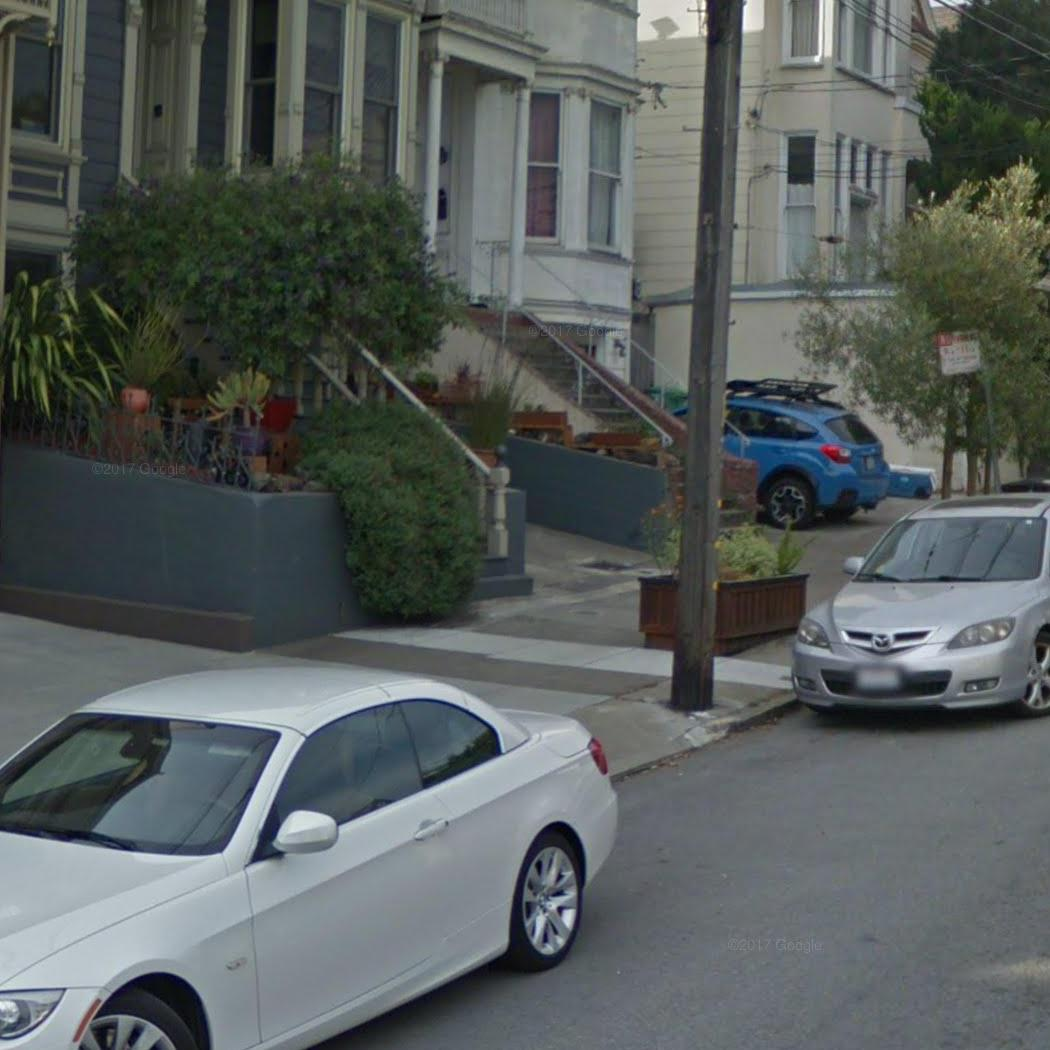No Parking: (936, 326, 984, 378)
